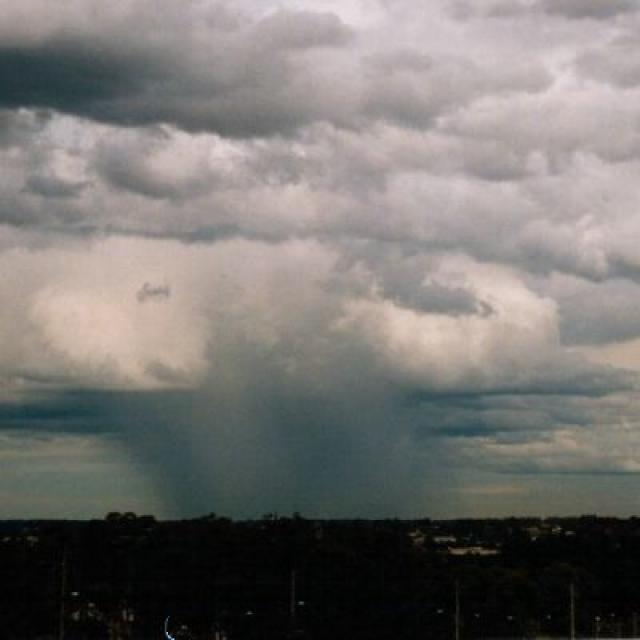Cs: (1, 22, 640, 475)
